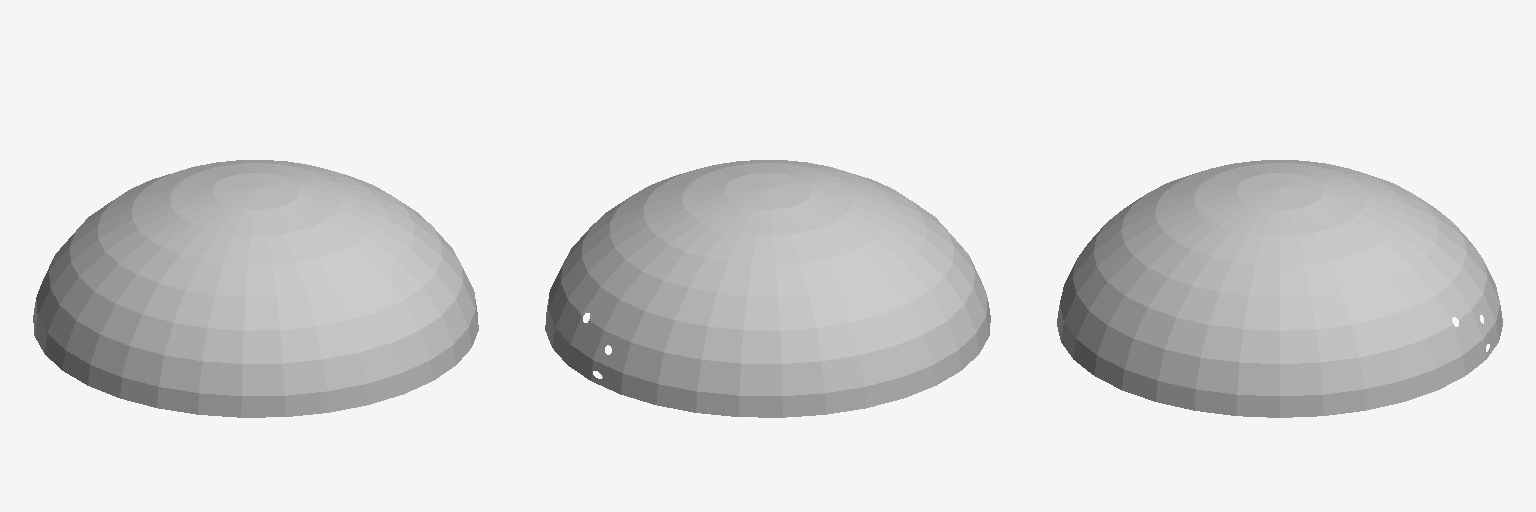
The model's file is Kuppel.obj.
3 renders of one model, left to right at view 1: azimuth 30°, elevation 25°; view 2: azimuth 150°, elevation 25°; view 3: azimuth 270°, elevation 25°, orthographic.
Parts seen in each view (by area): view 1: GLASKUPPEL; view 2: GLASKUPPEL; view 3: GLASKUPPEL.
Part boxes in pixels (left/top/right/bottom): GLASKUPPEL: left=33, top=160, right=478, bottom=417; GLASKUPPEL: left=545, top=160, right=990, bottom=417; GLASKUPPEL: left=1057, top=160, right=1502, bottom=417.
Bounding box in the file's own units: 25429 × 8495 × 25429.